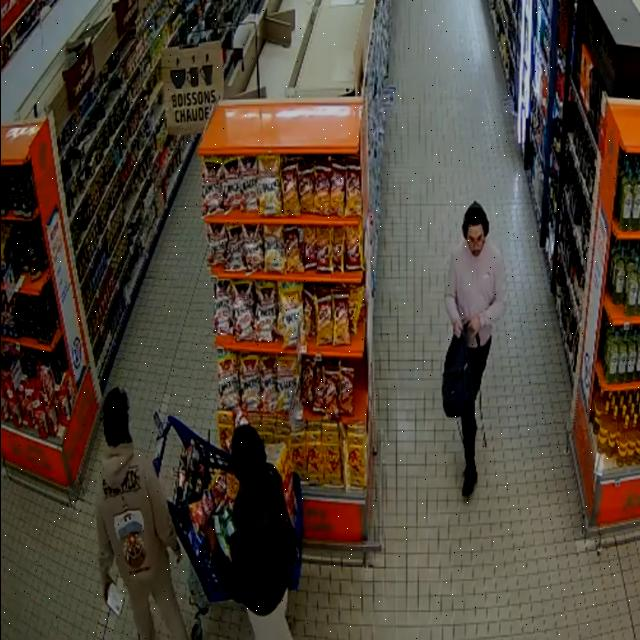article: (211, 512, 232, 563), (105, 583, 125, 618), (221, 506, 238, 538)
bags: (268, 466, 301, 566), (442, 334, 475, 418)
hands: (203, 521, 216, 545), (469, 315, 481, 335), (104, 578, 113, 602), (453, 320, 463, 338), (173, 545, 182, 564)
person: (97, 389, 187, 639), (207, 425, 292, 639), (446, 202, 506, 395)
